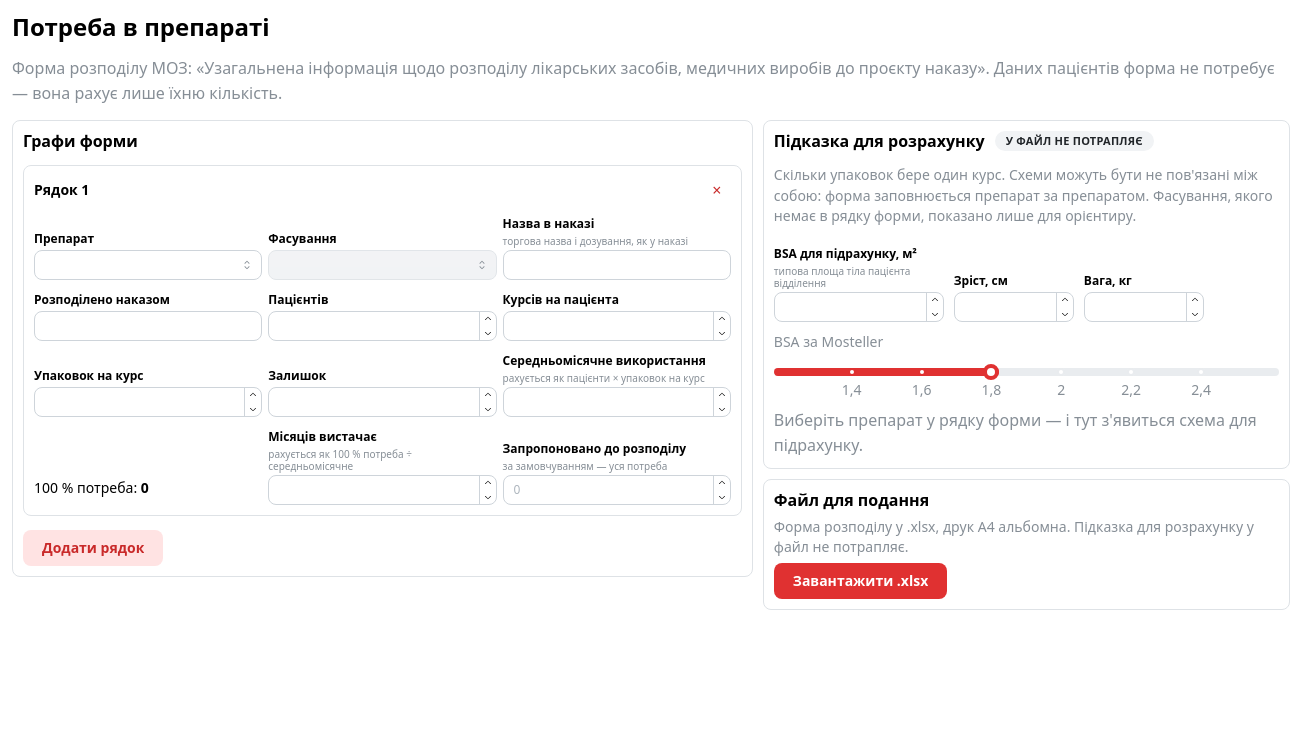
Test case: NeedPage › says what the hint cannot count instead of counting it anyway
Click the dropdown labelled "Препарат".
click(148, 265)  # box [34, 250, 262, 280]
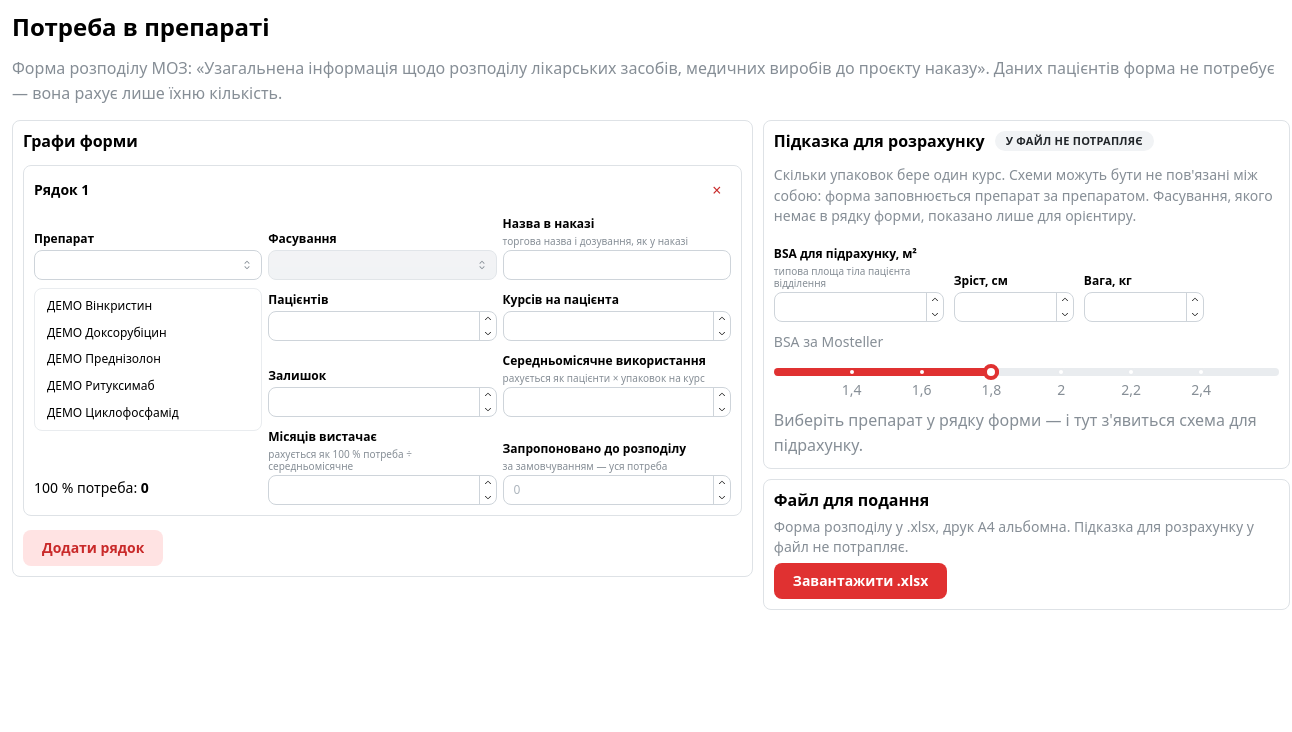
Click the option "ДЕМО Ритуксимаб".
click(101, 386)  # box [47, 377, 155, 394]
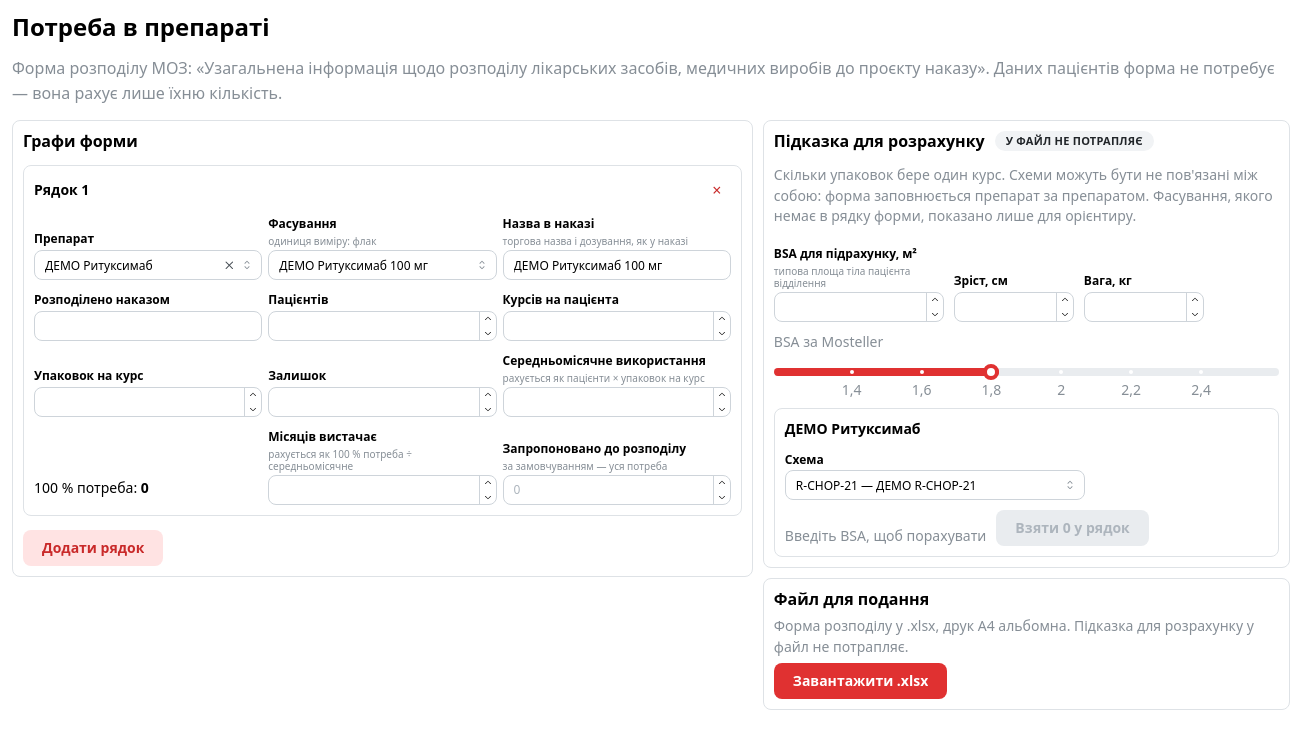
Expected: the text "Введіть BSA, щоб порахувати" is shown, [785, 526, 986, 546]
